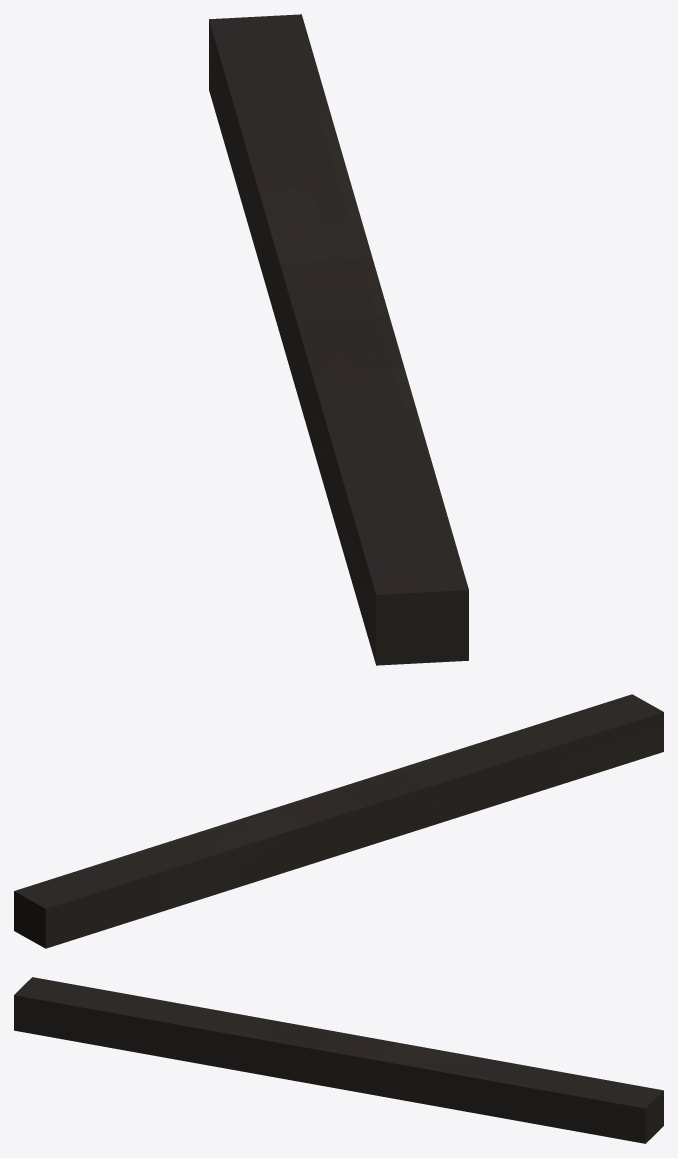
File: support_ladder__side_rail_0.glb
3 views of the same model, one above another, from view 1: azimuth 30°, elevation 25°; view 2: azimuth 150°, elevation 25°; view 3: azimuth 270°, elevation 25° (orthographic). The views are drawn at different scales.
Visible parts, largest first — view 1: world; view 2: world; view 3: world.
Boxes of the visible parts, x1=… form: world: x1=209, y1=14, x2=468, y2=665; world: x1=14, y1=694, x2=663, y2=948; world: x1=14, y1=977, x2=663, y2=1143.
Bounding box in the file's own units: 0.1995 × 0.025 × 0.4167.
1 material, 1 textured.
